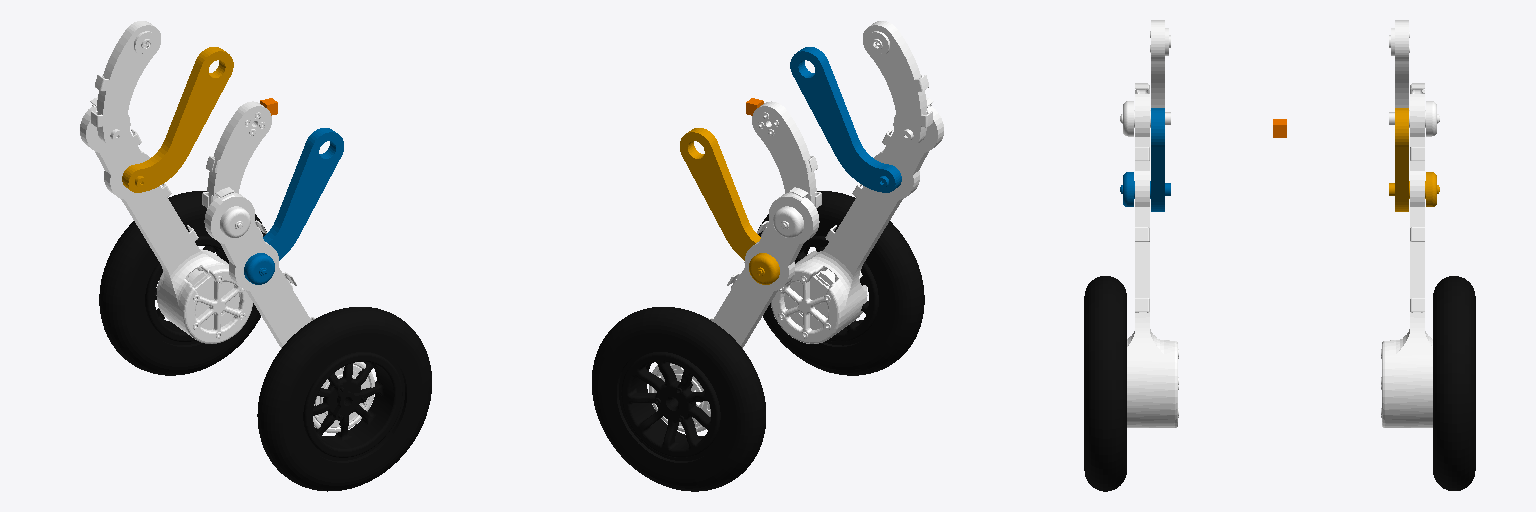
robot.urdf — wheel_biped_robot:
<?xml version="1.0" ?>
<robot name="wheel_biped_robot">

  <gazebo>
    <static>false</static>
  </gazebo>
<!--
  <link name="base_footprint">
    <inertial>
      <mass value="0.001"/>
      <origin rpy="0 0 0" xyz="0 0 0"/>
      <inertia ixx="0.0001" ixy="0" ixz="0" iyy="0.0001" iyz="0" izz="0.0001"/>
    </inertial>
  </link>

  <joint name="base_joint" type="fixed">
    <parent link="base_footprint"/>
    <child link="base_link"/>
    <origin rpy="0 0 0" xyz="0 0 0.5"/>
 </joint>
-->
  <link name="base_link">
    <visual>
      <geometry>
        <mesh filename="package://twl_sim/modeling/meshes/stl/MainBody_Visual.stl"/>
      </geometry>
      <material name="white">
        <color rgba="1 1 1 1"/>
      </material>
    </visual>
    <collision>
      <geometry>
        <mesh filename="package://twl_sim/modeling/meshes/stl/MainBody_Collision.stl"/>
      </geometry>
    </collision>
    <inertial>
      <mass value="1.41404421338"/>
      <origin rpy="0 0 0" xyz="0.01819659659 -0.00024888409 0.03542269696"/>
      <inertia ixx="0.004191453724966" ixy="0.000019611026617" ixz="0.000183001274225" iyy="0.006619178754250" iyz="0.000006399950187" izz="0.007735669494723"/>
    </inertial>
  </link>

  <link name="RightActiveThigh_link">
    <visual>
      <geometry>
        <mesh filename="package://twl_sim/modeling/meshes/stl/ThighLink_Active_Right_Visual.stl"/>
      </geometry>
      <material name="white"/>
    </visual>
    <collision>
      <geometry>
        <mesh filename="package://twl_sim/modeling/meshes/stl/ThighLink_Active_Right_Collision.stl"/>
      </geometry>
    </collision>
    <inertial>
      <mass value="0.04241994494"/>
      <origin rpy="0 0 0" xyz="-0.04846902377 -0.00461143086 0.00204281842"/>
      <inertia ixx="0.0000050068969963" ixy="-0.00000644424742526" ixz="-0.00000084635096499" iyy="0.00004884985593152" iyz="-0.0000004043837437" izz="0.00004992941023364"/>
    </inertial>
  </link>

  <link name="RightCalf_link">
    <visual>
      <geometry>
        <mesh filename="package://twl_sim/modeling/meshes/stl/Calf_Link_Right_Visual.stl"/>
      </geometry>
      <material name="white"/>
    </visual>
    <collision>
      <geometry>
        <mesh filename="package://twl_sim/modeling/meshes/stl/Calf_Link_Right_Collision.stl"/>
      </geometry>
    </collision>
    <inertial>
      <mass value="0.33823782393"/>
      <origin rpy="0 0 0" xyz="0.16971091698 0.00392574726 0.00713537305"/>
      <inertia ixx="0.000108187868306" ixy="0.00000568913762061" ixz="-0.0000343484358461" iyy="0.00084962131645905" iyz="0.00000026626892472" izz="0.00082031486080829"/>
    </inertial>
  </link>

  <link name="RightWheel_link">
    <visual>
      <geometry>
        <mesh filename="package://twl_sim/modeling/meshes/stl/Wheel_Right_Visual.stl"/>
      </geometry>
      <material name="black">
        <color rgba="0.1 0.1 0.1 1"/>
      </material>
    </visual>
    <collision>
      <geometry>
        <mesh filename="package://twl_sim/modeling/meshes/stl/Wheel_Right_Collision.stl"/>
      </geometry>
    </collision>
    <inertial>
      <mass value="0.21411770281"/>
      <origin rpy="0 0 0" xyz="-0.00000761 0.48438625 -0.00000031"/>
      <inertia ixx="0.00033410460295742" ixy="-0.000000000692262" ixz="-0.00000000004512" iyy="0.00064074279507983" iyz="0.000000000005987" izz="0.00033410465585037"/>
    </inertial>
  </link>

  <link name="RightPassiveThigh_link">
    <visual>
      <geometry>
        <mesh filename="package://twl_sim/modeling/meshes/stl/ThighLink_Passive_Right_Visual.stl"/>
      </geometry>
    </visual>
    <collision>
      <geometry>
        <mesh filename="package://twl_sim/modeling/meshes/stl/ThighLink_Passive_Right_Collision.stl"/>
      </geometry>
    </collision>
    <inertial>
      <mass value="0.03926139565"/>
      <origin rpy="0 0 0" xyz="-0.07721916722 -0.01027201342 -0.00386042407"/>
      <inertia ixx="0.000005253535542220" ixy="-0.000005957246863360" ixz="0.000002247315833890" iyy="0.000060185494515380" iyz="0.000000799056070920" izz="0.000060398225116460"/>
    </inertial>
  </link>

  <link name="LeftActiveThigh_link">
    <visual>
      <geometry>
        <mesh filename="package://twl_sim/modeling/meshes/stl/ThighLink_Active_Left_Visual.stl"/>
      </geometry>
      <material name="white"/>
    </visual>
    <collision>
      <geometry>
        <mesh filename="package://twl_sim/modeling/meshes/stl/ThighLink_Active_Left_Collision.stl"/>
      </geometry>
    </collision>
    <inertial>
      <mass value="0.04241994494"/>
      <origin rpy="0 0 0" xyz="-0.04846903323 0.00461143087 0.00204282631"/>
      <inertia ixx="0.00000500689568398" ixy="0.00000644424555368" ixz="-0.00000084635023128" iyy="0.00004884983835373" iyz="0.00000040438523501" izz="0.00004992939396428"/>
    </inertial>
  </link>

  <link name="LeftCalf_link">
    <visual>
      <geometry>
        <mesh filename="package://twl_sim/modeling/meshes/stl/Calf_Link_Left_Visual.stl"/>
      </geometry>
      <material name="white"/>
    </visual>
    <collision>
      <geometry>
        <mesh filename="package://twl_sim/modeling/meshes/stl/Calf_Link_Left_Collision.stl"/>
      </geometry>
    </collision>
    <inertial>
      <mass value="0.33823782393"/>
      <origin rpy="0 0 0" xyz="0.1697107318 -0.00392577446 0.00713663078"/>
      <inertia ixx="0.0001081875337499" ixy="-0.00000568874489609" ixz="-0.0000343493986893" iyy="0.00084962461514512" iyz="-0.00000027220346797" izz="0.00082031828517488"/>
    </inertial>
  </link>

  <link name="LeftWheel_link">
    <visual>
      <geometry>
        <mesh filename="package://twl_sim/modeling/meshes/stl/Wheel_Left_Visual.stl"/>
      </geometry>
      <material name="black"/>
    </visual>
    <collision>
      <geometry>
        <mesh filename="package://twl_sim/modeling/meshes/stl/Wheel_Left_Collision.stl"/>
      </geometry>
    </collision>
    <inertial>
      <mass value="0.21411770281"/>
      <origin rpy="0 0 0" xyz="-0.00000687 0.43740164 -0.00000028"/>
      <inertia ixx="0.00037716950236306" ixy="-0.000000000684531" ixz="-0.000000000114686" iyy="0.00072399902807526" iyz="0.000000000006205" izz="0.000377169522061"/>
    </inertial>
  </link>

  <link name="LeftPassiveThigh_link">
    <visual>
      <geometry>
        <mesh filename="package://twl_sim/modeling/meshes/stl/ThighLink_Passive_Left_Visual.stl"/>
      </geometry>
    </visual>
    <collision>
      <geometry>
        <mesh filename="package://twl_sim/modeling/meshes/stl/ThighLink_Passive_Left_Collision.stl"/>
      </geometry>
    </collision>
    <inertial>
      <mass value="0.03926139565"/>
      <origin rpy="0 0 0" xyz="-0.07721916722 0.01027201342 -0.00386042407"/>
      <inertia ixx="0.000005253535542220" ixy="0.000005957246863360" ixz="0.000002247315833890" iyy="0.000060185494515380" iyz="-0.000000799056070920" izz="0.000060398225116460"/>
    </inertial>
  </link>

  <link name="imu_link">
    <visual>
      <geometry>
        <box size="0.01 0.01 0.01"/>
      </geometry>
      <material name="orange">
        <color rgba="1.0 0.5 0.0 1.0"/>
      </material>
    </visual>
    <collision>
      <geometry>
        <box size="0.01 0.01 0.01"/>
      </geometry>
    </collision>
    <inertial>
      <mass value="0.01"/>
      <inertia ixx="1.66e-6" ixy="0" ixz="0" iyy="1.66e-6" iyz="0" izz="1.66e-6"/>
    </inertial>
  </link>

  <joint name="Base_RightActiveThigh" type="revolute">
    <parent link="base_link"/>
    <child link="RightActiveThigh_link"/>
    <origin rpy="0 -1.221206878 0" xyz="-0.064952 -0.086 0.0375"/>
    <axis xyz="0 1 0"/>
    <limit effort="100" lower="-1.57" upper="1.57" velocity="10"/>
  </joint>

  <joint name="RightActiveThigh_RightCalf" type="revolute">
    <parent link="RightActiveThigh_link"/>
    <child link="RightCalf_link"/>
    <origin rpy="0 2.343715386 0" xyz="-0.077 -0.016 0.00"/>
    <axis xyz="0 1 0"/>
    <limit effort="100" lower="-2.0" upper="1.57" velocity="10"/>
  </joint>

  <joint name="RightCalf_RightWheel" type="continuous">
    <parent link="RightCalf_link"/>
    <child link="RightWheel_link"/>
    <origin rpy="0 0 0" xyz="0.187 -0.021 0.008"/>
    <axis xyz="0 1 0"/>
  </joint>

  <joint name="Base_RightPassiveThigh" type="revolute">
    <parent link="base_link"/>
    <child link="RightPassiveThigh_link"/>
    <origin rpy="0 -0.8538150701 0" xyz="0.0 -0.081 0.0"/>
    <axis xyz="0 1 0"/>
    <limit effort="100" lower="-1.57" upper="1.57" velocity="10"/>
  </joint>

  <joint name="Base_LeftActiveThigh" type="revolute">
    <parent link="base_link"/>
    <child link="LeftActiveThigh_link"/>
    <origin rpy="0 -1.221206878 0" xyz="-0.064952 0.086 0.0375"/>
    <axis xyz="0 1 0"/>
    <limit effort="100" lower="-1.57" upper="1.57" velocity="10"/>
  </joint>

  <joint name="LeftActiveThigh_LeftCalf" type="revolute">
    <parent link="LeftActiveThigh_link"/>
    <child link="LeftCalf_link"/>
    <origin rpy="0 2.343715386 0" xyz="-0.077 0.016 0.00"/>
    <axis xyz="0 1 0"/>
    <limit effort="100" lower="-2.0" upper="1.57" velocity="10"/>
  </joint>

  <joint name="LeftCalf_LeftWheel" type="continuous">
    <parent link="LeftCalf_link"/>
    <child link="LeftWheel_link"/>
    <origin rpy="0 0 0" xyz="0.187 0.021 0.008"/>
    <axis xyz="0 1 0"/>
  </joint>

  <joint name="Base_LeftPassiveThigh" type="revolute">
    <parent link="base_link"/>
    <child link="LeftPassiveThigh_link"/>
    <origin rpy="0 -0.8538150701 0" xyz="0.0 0.081 0.0"/>
    <axis xyz="0 1 0"/>
    <limit effort="100" lower="-1.57" upper="1.57" velocity="10"/>
  </joint>

  <joint name="Base_IMU" type="fixed">
    <parent link="base_link"/>
    <child link="imu_link"/>
    <origin rpy="0 0 0" xyz="0 0 0"/>
  </joint>

</robot>

--- Render facts (derived) ---
3 views of the same robot in one strip: view 1: azimuth 30°, elevation 25°; view 2: azimuth 150°, elevation 25°; view 3: azimuth 270°, elevation 25° (orthographic).
Robot: wheel_biped_robot — 10 links, 9 joints (6 revolute, 2 continuous, 1 fixed); root link base_link; default pose: all joints at 0.
Visible links, largest first — view 1: RightWheel_link, LeftCalf_link, LeftWheel_link, RightCalf_link, LeftPassiveThigh_link, RightPassiveThigh_link, LeftActiveThigh_link, RightActiveThigh_link; view 2: LeftWheel_link, RightCalf_link, RightWheel_link, LeftCalf_link, RightPassiveThigh_link, LeftPassiveThigh_link, RightActiveThigh_link, LeftActiveThigh_link; view 3: RightWheel_link, LeftWheel_link, RightCalf_link, LeftCalf_link, RightPassiveThigh_link, LeftPassiveThigh_link, RightActiveThigh_link, LeftActiveThigh_link.
Link boxes in pixels (x1,y1,x2,y2): RightWheel_link: (257,307,431,491); LeftCalf_link: (80,97,252,343); LeftWheel_link: (99,191,266,375); RightCalf_link: (204,187,374,432); LeftPassiveThigh_link: (122,47,233,192); RightPassiveThigh_link: (244,128,343,284); LeftActiveThigh_link: (91,21,160,146); RightActiveThigh_link: (202,101,271,237); LeftWheel_link: (592,307,765,491); RightCalf_link: (771,97,943,343); RightWheel_link: (758,191,924,375); LeftCalf_link: (649,187,819,431); RightPassiveThigh_link: (790,47,901,192); LeftPassiveThigh_link: (680,128,779,284); RightActiveThigh_link: (863,21,932,146); LeftActiveThigh_link: (752,101,821,237); RightWheel_link: (1084,276,1126,491); LeftWheel_link: (1433,276,1475,490); RightCalf_link: (1127,83,1178,427); LeftCalf_link: (1381,83,1432,427); RightPassiveThigh_link: (1120,108,1170,211); LeftPassiveThigh_link: (1389,108,1439,211); RightActiveThigh_link: (1120,20,1170,136); LeftActiveThigh_link: (1389,20,1439,136).
Bounding box of the posed robot: 0.1844 × 0.276 × 0.3285 m (x, y, z).
Meshes: 9 distinct files referenced, 8 mesh visuals loaded (8 binary STL); not drawn: 1 (reference not matched to a file when rendering).
